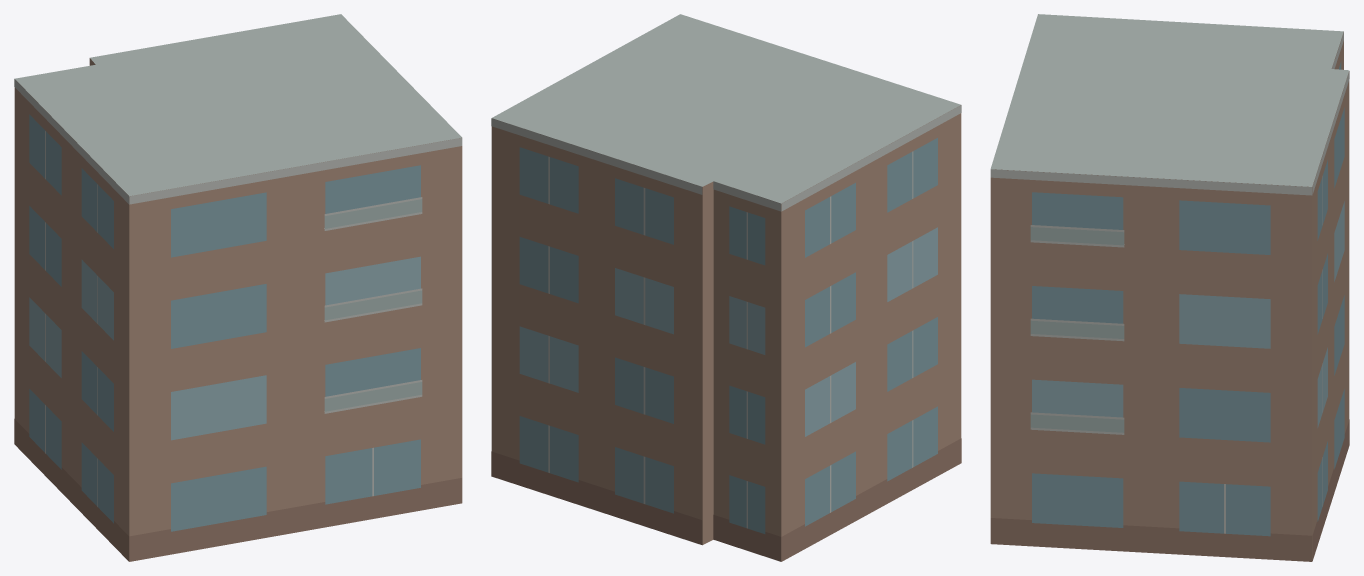
File: survey-upis-32660389.glb
The picture shows the model from 3 angles, left to right: view 1: azimuth 30°, elevation 25°; view 2: azimuth 150°, elevation 25°; view 3: azimuth 270°, elevation 25°; orthographic projection. The views are drawn at different scales.
Visible parts, largest first — view 1: survey-upis-32660389.tmp; view 2: survey-upis-32660389.tmp; view 3: survey-upis-32660389.tmp.
Part boxes in pixels (box(x1,y1,x2,y2)): survey-upis-32660389.tmp: box(14, 14, 462, 561); survey-upis-32660389.tmp: box(491, 14, 961, 561); survey-upis-32660389.tmp: box(990, 14, 1349, 561).
Bounding box in the file's own units: 10.6 × 10.7 × 9.3.
